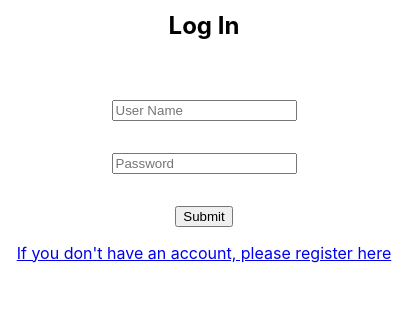
it: <Login/> › validation › shows error message on submit for empty username and password
The image size is (409, 320).
Click the button named "submit".
click(204, 216)  # box [175, 206, 233, 227]
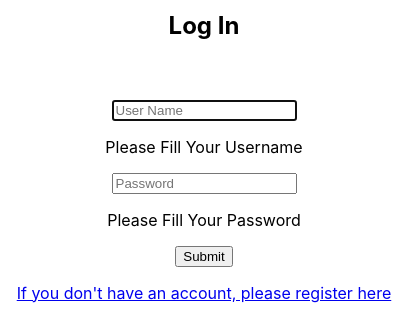
Check: the text "Please Fill Your Username" is shown, box [105, 137, 303, 157]
Check: the text "Please Fill Your Password" is shown, box [107, 210, 301, 230]
